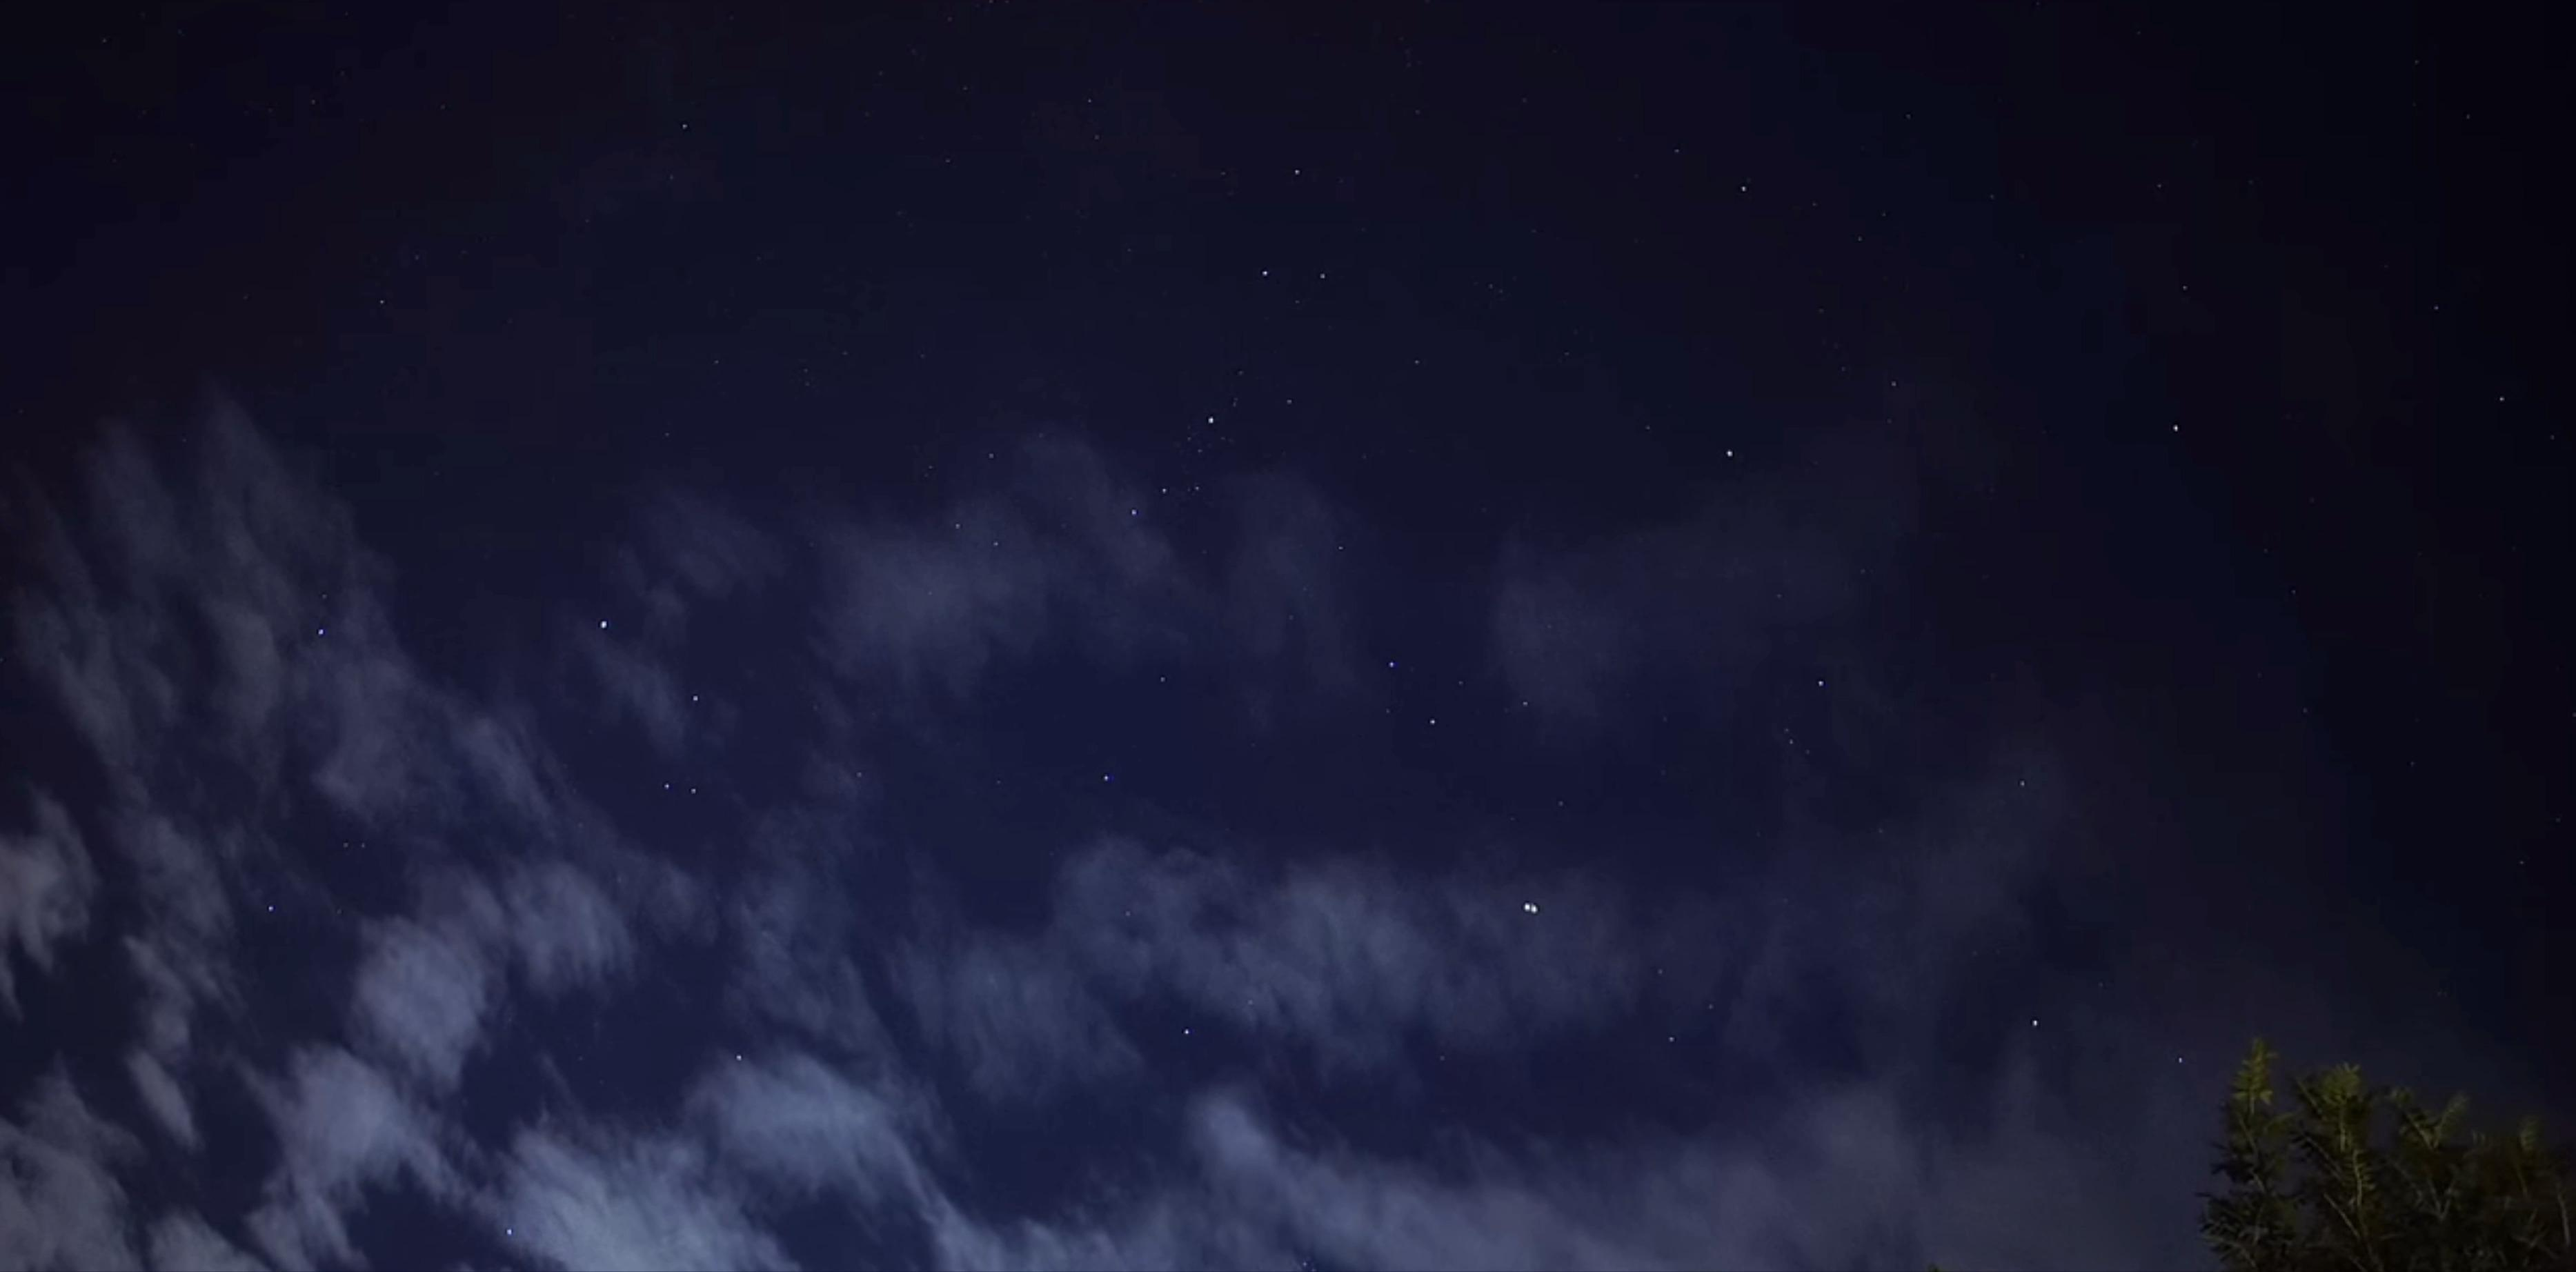Plane: (1505, 884, 1561, 930)
